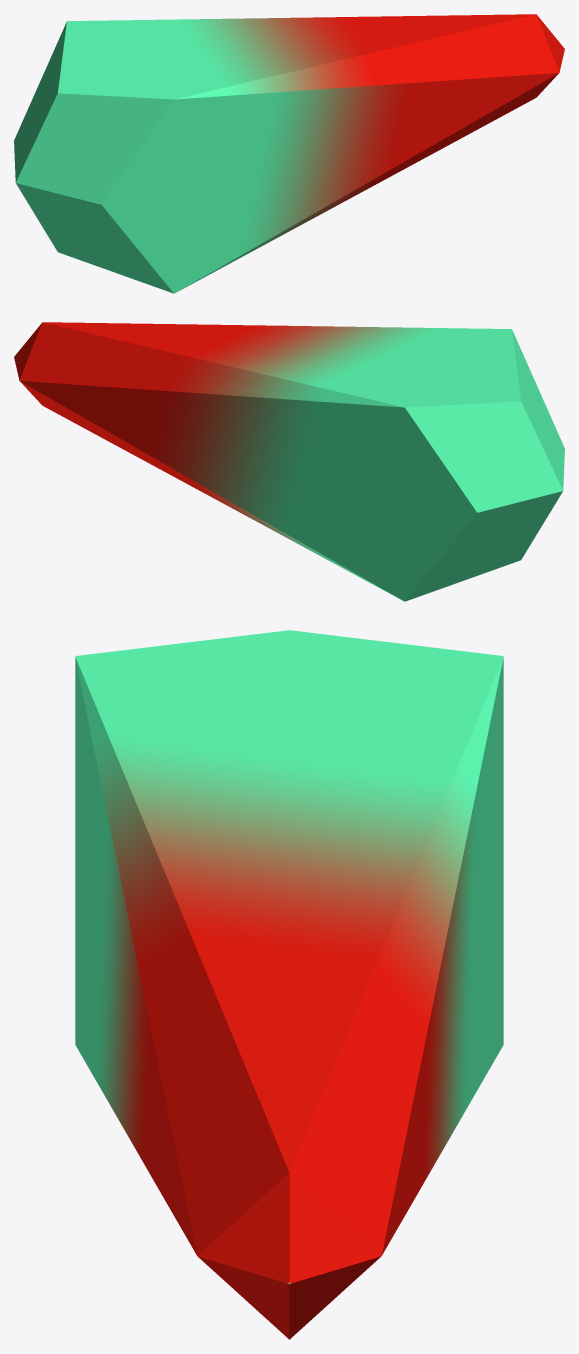
The model's file is fireWind.obj.
3 renders of one model, top to bottom at view 1: azimuth 30°, elevation 25°; view 2: azimuth 150°, elevation 25°; view 3: azimuth 270°, elevation 25°, orthographic. The views are drawn at different scales.
Parts seen in each view (by area): view 1: Circle; view 2: Circle; view 3: Circle.
Boxes of the visible parts, left/top/right/bottom form: Circle: left=14, top=14, right=564, bottom=293; Circle: left=14, top=322, right=564, bottom=601; Circle: left=75, top=630, right=503, bottom=1339.
Bounding box in the file's own units: 1.87 × 0.6328 × 0.6328.
Materials: 1 (1 with a texture image).
